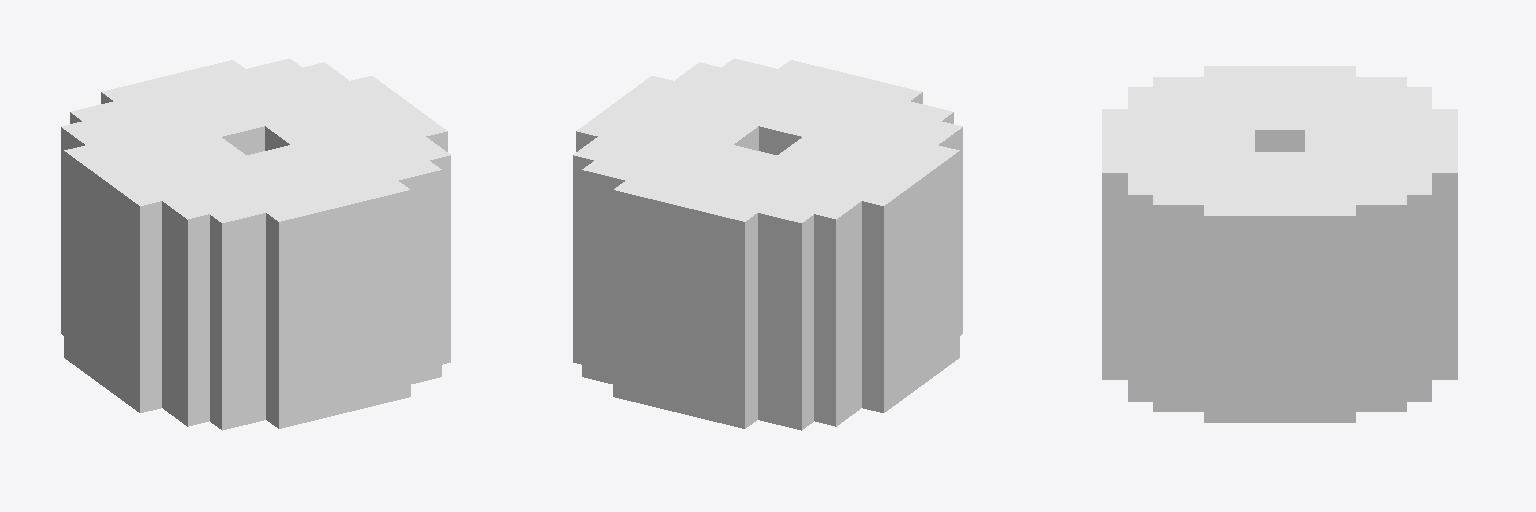
Rendered from Obstacle_1x1_2.obj.
The picture shows the model from 3 angles: view 1: azimuth 30°, elevation 25°; view 2: azimuth 150°, elevation 25°; view 3: azimuth 270°, elevation 25°; orthographic projection.
Parts seen in each view (by area): view 1: object 1; view 2: object 1; view 3: object 1.
Part boxes in pixels (x1,y1,x2,y2): object 1: (61,58,450,430); object 1: (573,58,962,430); object 1: (1102,66,1457,422).
Size of the model in its own units: 1.4 by 1 by 1.4.